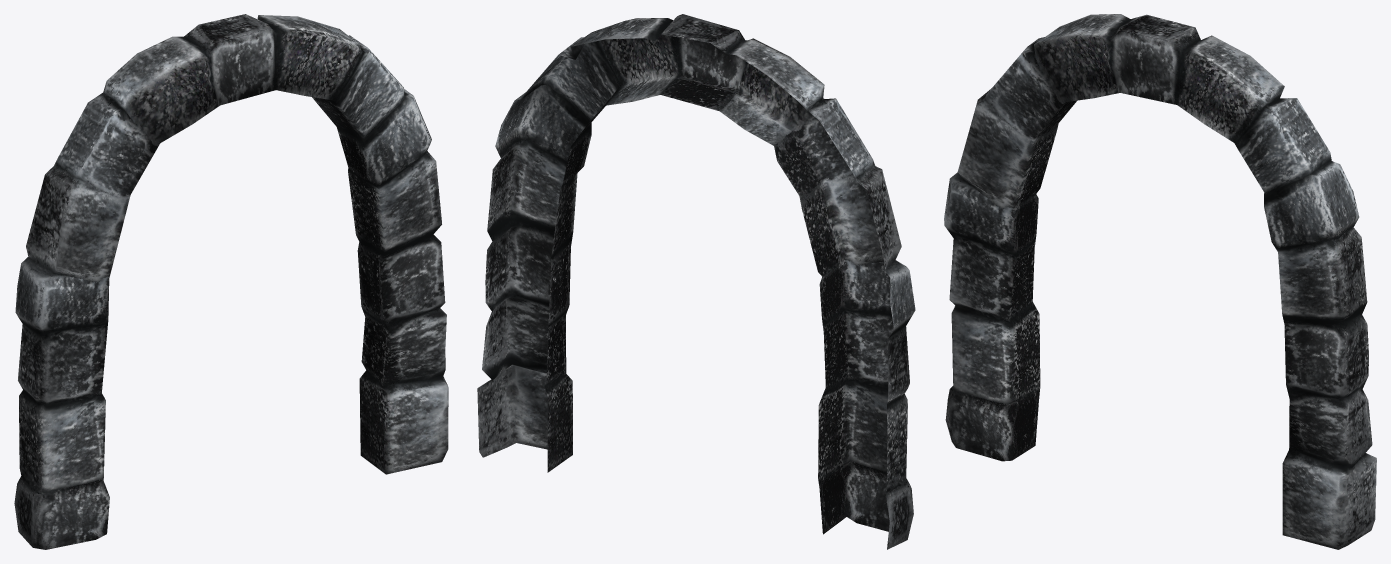
File: Stone Arch.FBX
3 views of the same model, side by side, from view 1: azimuth 30°, elevation 25°; view 2: azimuth 150°, elevation 25°; view 3: azimuth 330°, elevation 25° (orthographic).
Parts seen in each view (by area): view 1: Stone Arch; view 2: Stone Arch; view 3: Stone Arch.
Part boxes in pixels (box(x1,y1,x2,y2)): Stone Arch: box(14, 14, 448, 549); Stone Arch: box(477, 14, 915, 549); Stone Arch: box(944, 14, 1376, 549).
Size of the model in its own units: 143 by 18.96 by 156.
1 material, 1 textured.
